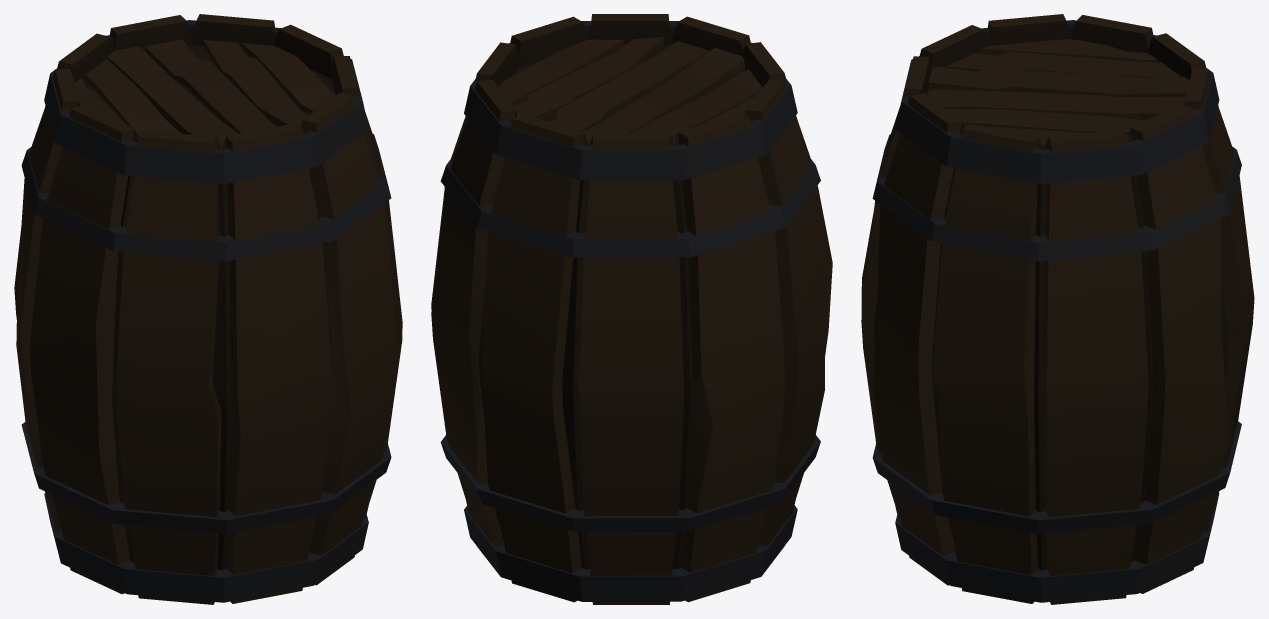
File: barrel.glb
3 renders of one model, left to right at view 1: azimuth 30°, elevation 25°; view 2: azimuth 150°, elevation 25°; view 3: azimuth 270°, elevation 25°, orthographic.
Visible parts, largest first — view 1: Barrel_Cylinder.037; view 2: Barrel_Cylinder.037; view 3: Barrel_Cylinder.037.
Boxes of the visible parts, x1,y1,x2,y2 form: Barrel_Cylinder.037: (14,14,402,604); Barrel_Cylinder.037: (431,14,832,604); Barrel_Cylinder.037: (861,14,1254,604).
Bounding box in the file's own units: 0.8314 × 1.07 × 0.8241.
